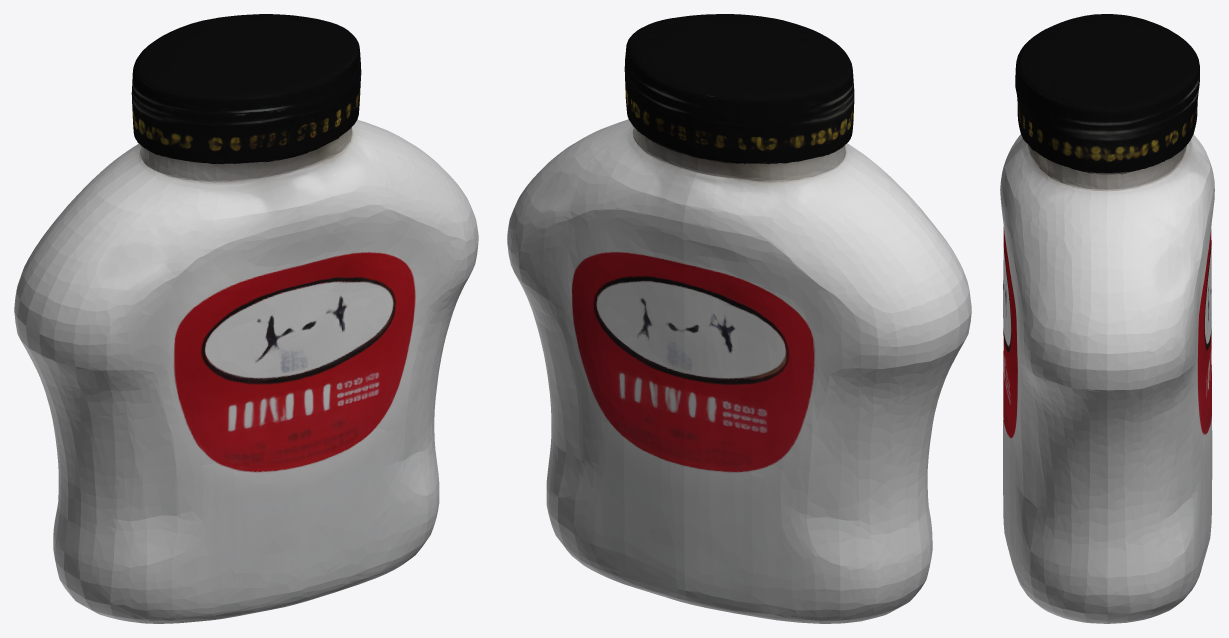
File: hair_cream.glb
The picture shows the model from 3 angles, left to right: view 1: azimuth 30°, elevation 25°; view 2: azimuth 150°, elevation 25°; view 3: azimuth 270°, elevation 25°; orthographic projection. The views are drawn at different scales.
Parts seen in each view (by area): view 1: world; view 2: world; view 3: world.
Part boxes in pixels (x1=…): world: x1=14, y1=14, x2=478, y2=623; world: x1=507, y1=14, x2=971, y2=623; world: x1=1000, y1=14, x2=1214, y2=623.
Size of the model in its own units: 0.8848 by 0.9975 by 0.3916.
Materials: 1 (1 with a texture image).
